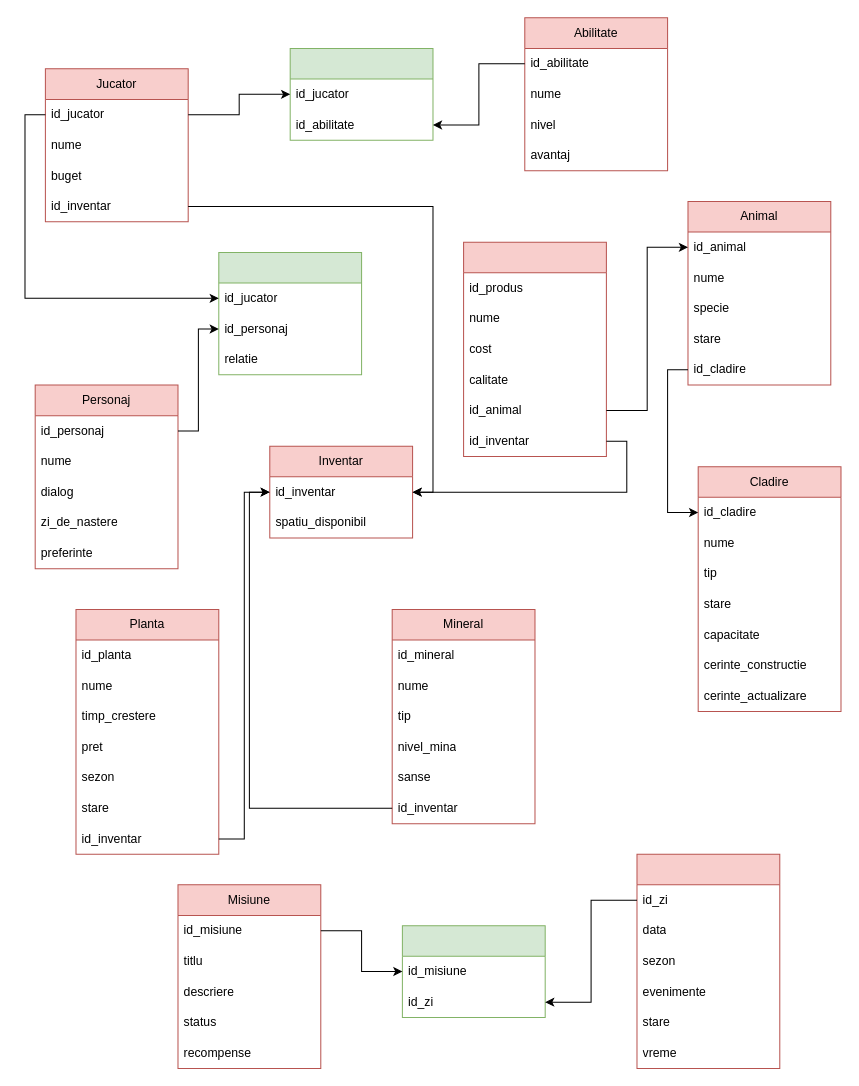
This 859x1086 diagram has some shape labels left out. The box of each missing label's shape, as (x1, y1, x2, y2) in pixels:
JucatorAbilitate: (289, 47, 433, 140)
JucatorPersonaj: (218, 251, 362, 375)
MisiuneZi: (401, 925, 545, 1017)
ProdusAnimal: (463, 241, 606, 456)
Zi: (636, 853, 780, 1068)
